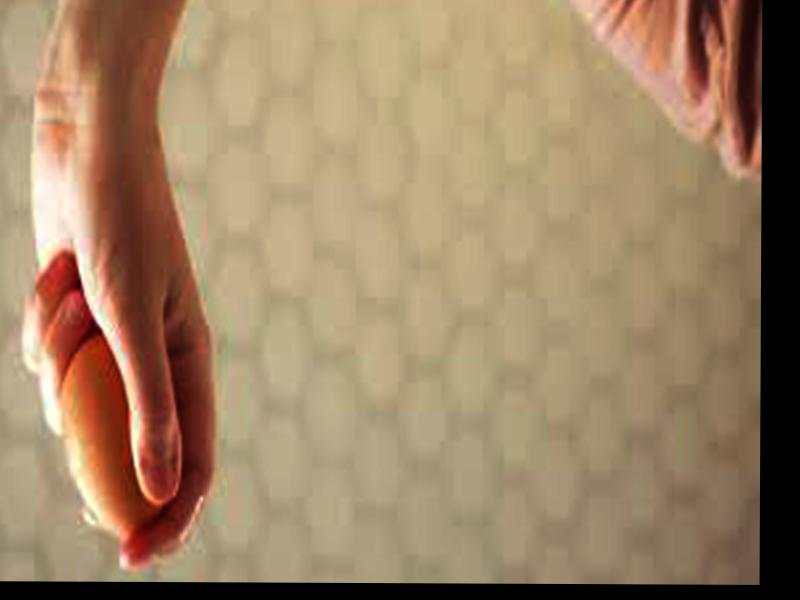Eggs: (55, 334, 173, 535)
